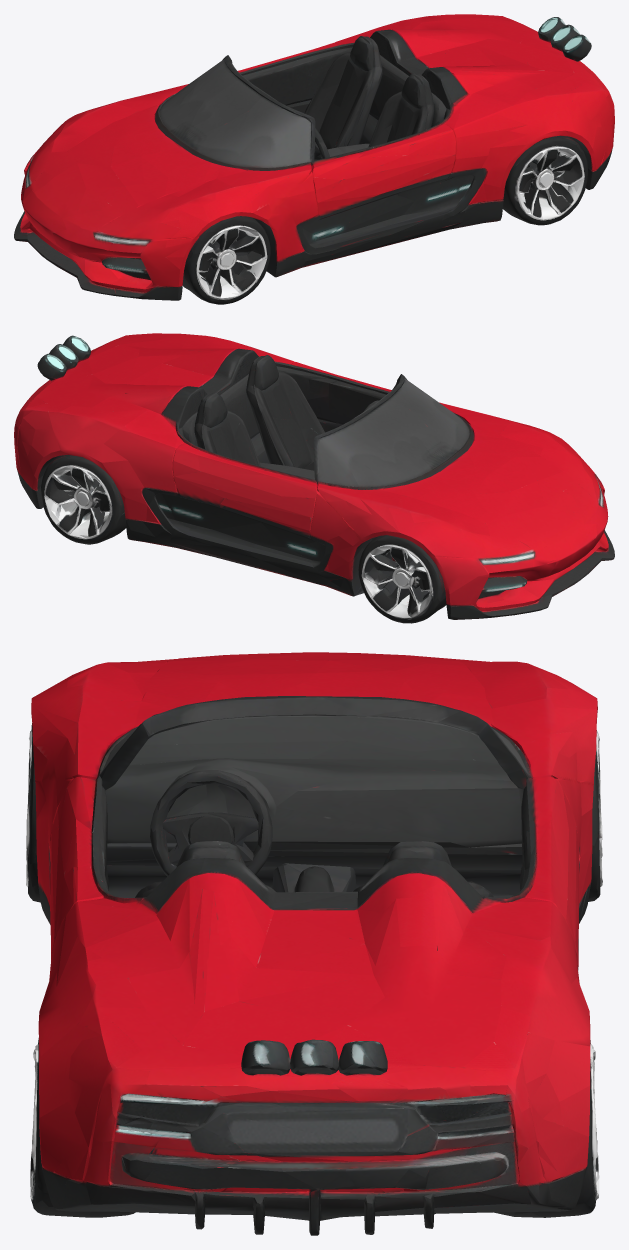
Rendered from roadster-raw.glb.
The picture shows the model from 3 angles, top to bottom: view 1: azimuth 30°, elevation 25°; view 2: azimuth 150°, elevation 25°; view 3: azimuth 270°, elevation 25°; orthographic projection. The views are drawn at different scales.
Visible parts, largest first — view 1: Mesh_0; view 2: Mesh_0; view 3: Mesh_0.
Part boxes in pixels (x1,y1,x2,y2): Mesh_0: (14, 14, 614, 304); Mesh_0: (14, 333, 614, 623); Mesh_0: (26, 652, 602, 1235).
Size of the model in its own units: 1.9 by 0.4907 by 0.8848.
Materials: 1 (1 with a texture image).
